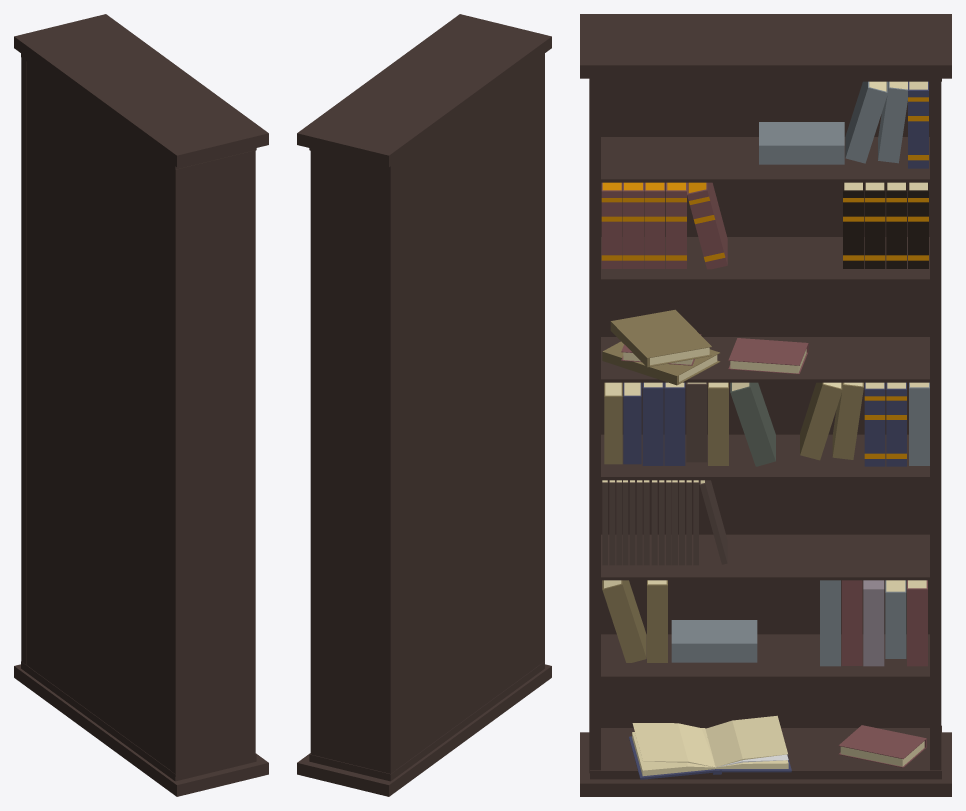
File: TallBookshelfArrangement2.fbx
3 views of the same model, side by side, from view 1: azimuth 30°, elevation 25°; view 2: azimuth 150°, elevation 25°; view 3: azimuth 270°, elevation 25° (orthographic). The views are drawn at different scales.
Visible parts, largest first — view 1: Cube.009, Cube.002, Cube.001, Cube.065, Cube.003, Cube.004, Cube.008; view 2: Cube.009, Cube.003, Cube.001, Cube.065, Cube.002, Cube.004, Cube.008; view 3: Cube.009, Cube.001, Cube.006, Cube.010, Cube.011, Cube.056, Cube.005, Cube.002, Cube.003, Cube.007, Cube.004, Cube.065 (+42 smaller).
Part boxes in pixels (left/top/right/bottom): Cube.009: left=26, top=62, right=170, bottom=770; Cube.002: left=170, top=150, right=255, bottom=776; Cube.001: left=14, top=14, right=268, bottom=167; Cube.065: left=14, top=664, right=268, bottom=796; Cube.003: left=21, top=58, right=26, bottom=664; Cube.004: left=21, top=661, right=256, bottom=781; Cube.008: left=21, top=53, right=256, bottom=169; Cube.009: left=396, top=61, right=539, bottom=769; Cube.003: left=310, top=151, right=395, bottom=773; Cube.001: left=297, top=14, right=551, bottom=167; Cube.065: left=297, top=664, right=551, bottom=796; Cube.002: left=540, top=57, right=544, bottom=664; Cube.004: left=309, top=661, right=544, bottom=781; Cube.008: left=309, top=53, right=544, bottom=169; Cube.009: left=601, top=81, right=929, bottom=727; Cube.001: left=580, top=14, right=951, bottom=78; Cube.006: left=601, top=534, right=929, bottom=580; Cube.010: left=601, top=137, right=929, bottom=182; Cube.011: left=601, top=237, right=929, bottom=282; Cube.056: left=601, top=337, right=929, bottom=382; Cube.005: left=601, top=634, right=929, bottom=679; Cube.002: left=589, top=78, right=600, bottom=773; Cube.003: left=930, top=81, right=941, bottom=770; Cube.007: left=601, top=434, right=929, bottom=480; Cube.004: left=590, top=725, right=941, bottom=779; Cube.065: left=580, top=732, right=951, bottom=796.
Bounding box in the file's own units: 110 × 682 × 314.
